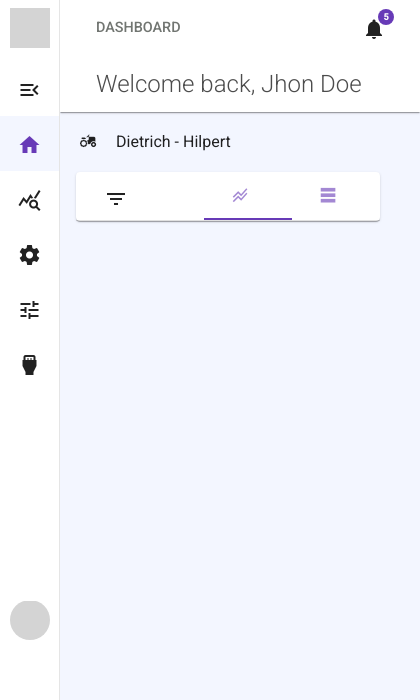
test farm dashboard component › [farm]/filters › page display on mobile screen › click on filter button, should opend the drawer
Click the button with test id "filters-toggle-button".
click(116, 198)  # box [96, 178, 136, 218]
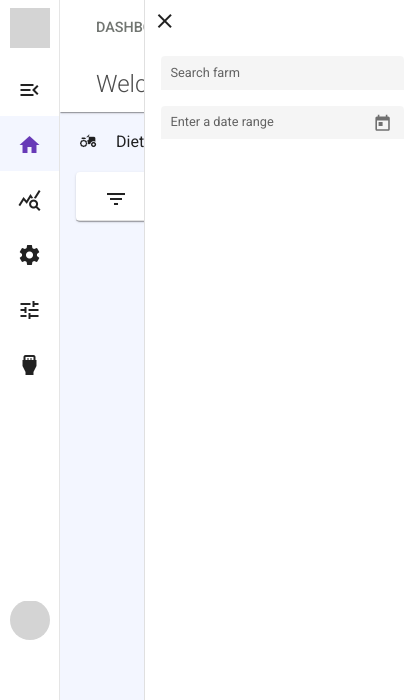
Expected: the element with test id "filters-drawer" is shown
